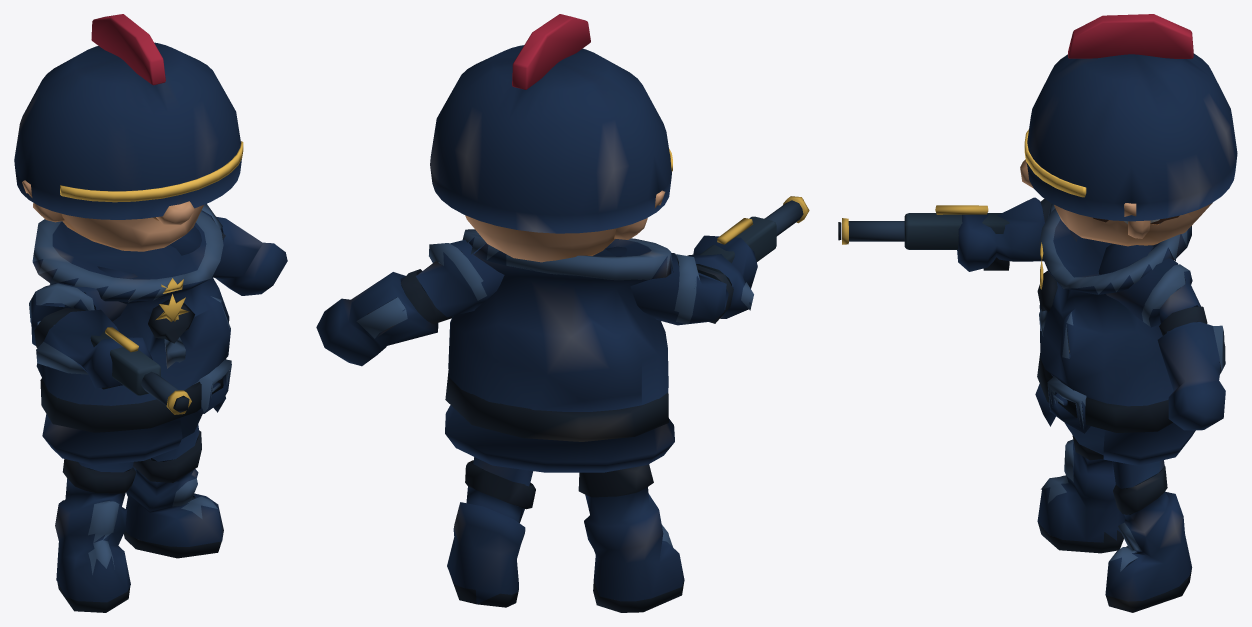
The model's file is HALFGROWN_LEGIONARY.glb.
3 renders of one model, left to right at view 1: azimuth 30°, elevation 25°; view 2: azimuth 150°, elevation 25°; view 3: azimuth 270°, elevation 25°, orthographic. The views are drawn at different scales.
Visible parts, largest first — view 1: body (×2), recoil, legR, legL; view 2: body, recoil, legR, legL; view 3: body (×2), recoil, legL, legR.
Boxes of the visible parts, bbox=[...] form: body (×2): bbox=[14, 14, 243, 465]; recoil: bbox=[29, 203, 287, 414]; legR: bbox=[55, 459, 136, 612]; legL: bbox=[124, 424, 223, 558]; body: bbox=[430, 14, 674, 472]; recoil: bbox=[316, 196, 809, 366]; legR: bbox=[578, 464, 684, 612]; legL: bbox=[447, 457, 535, 607]; body (×2): bbox=[1020, 14, 1237, 465]; recoil: bbox=[838, 197, 1225, 430]; legL: bbox=[1105, 460, 1192, 612]; legR: bbox=[1037, 435, 1125, 553].
Bounding box in the file's own units: 0.6318 × 0.9997 × 0.6552.
